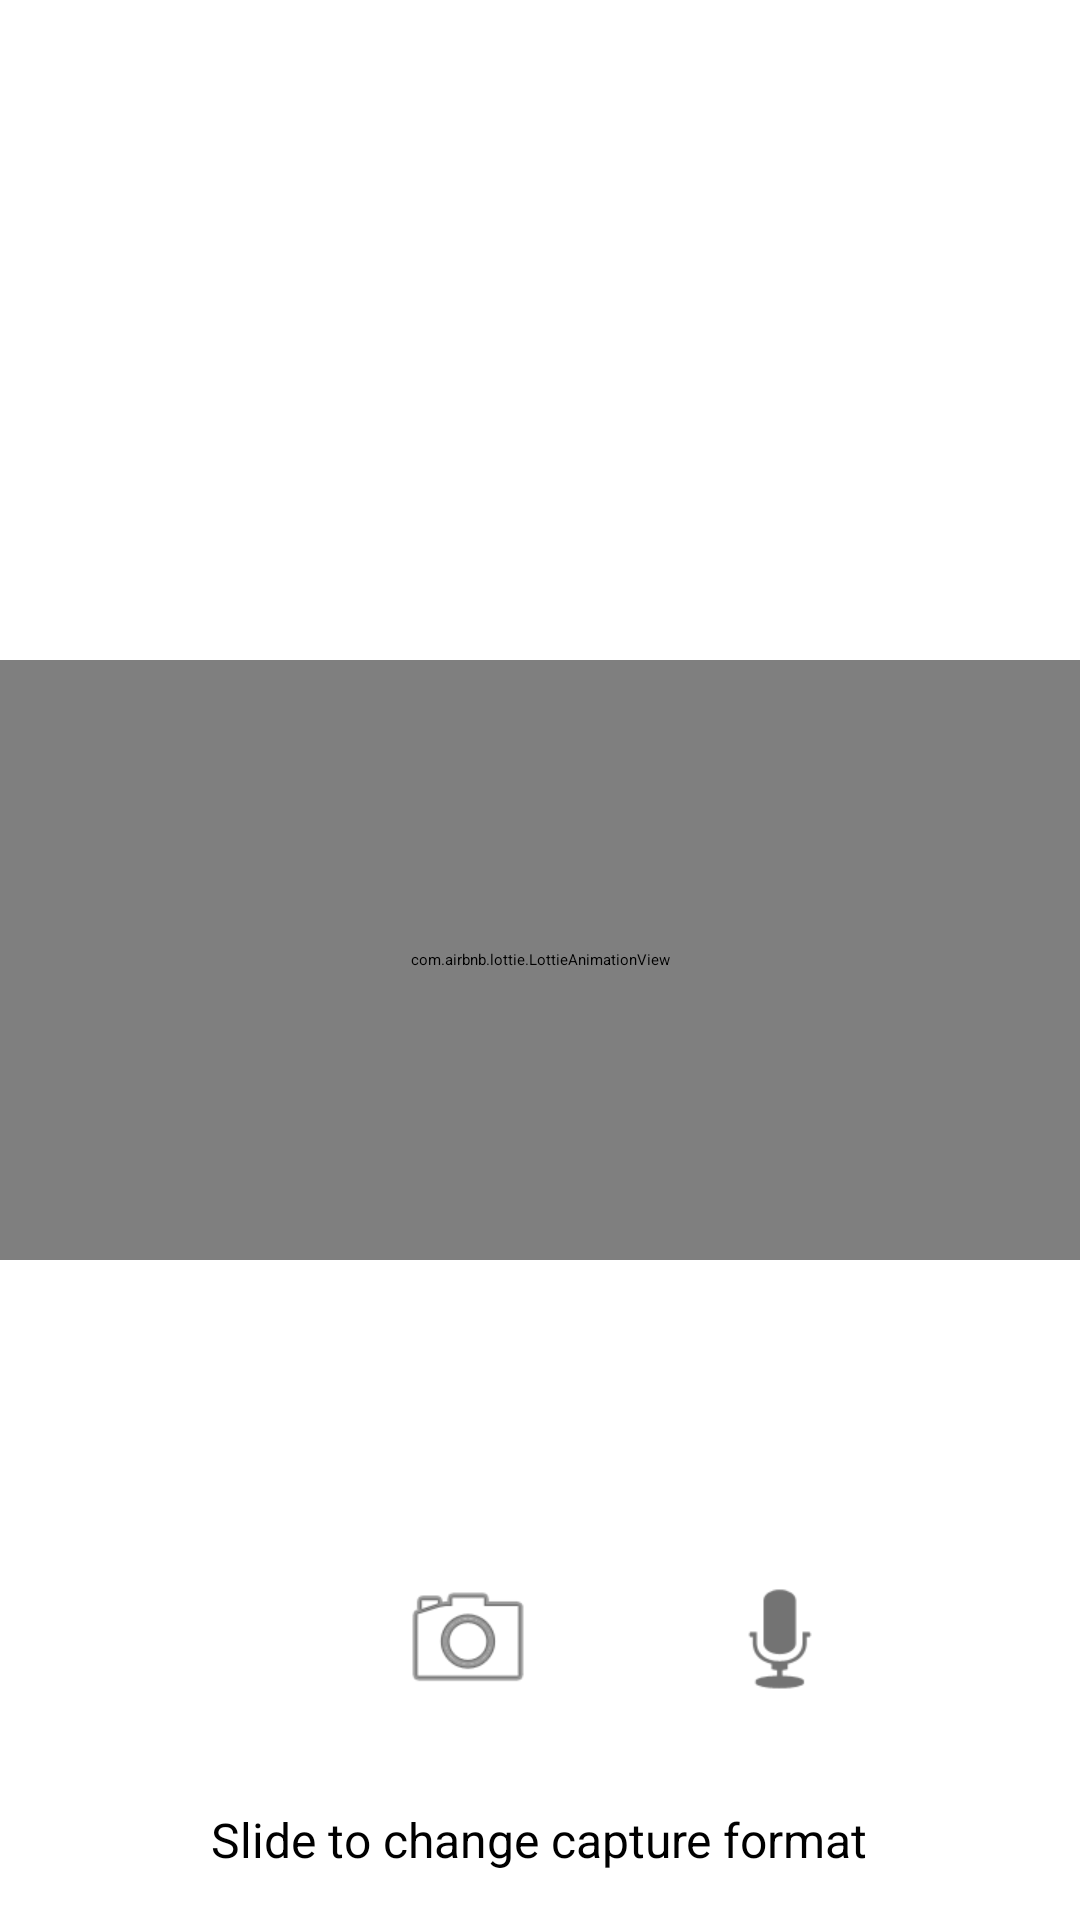

Icons on this 1080x1920 Android screen, each with its box as (x1,y1,x2,y2):
Toggle microphone on/off: (748,1589,811,1689)
